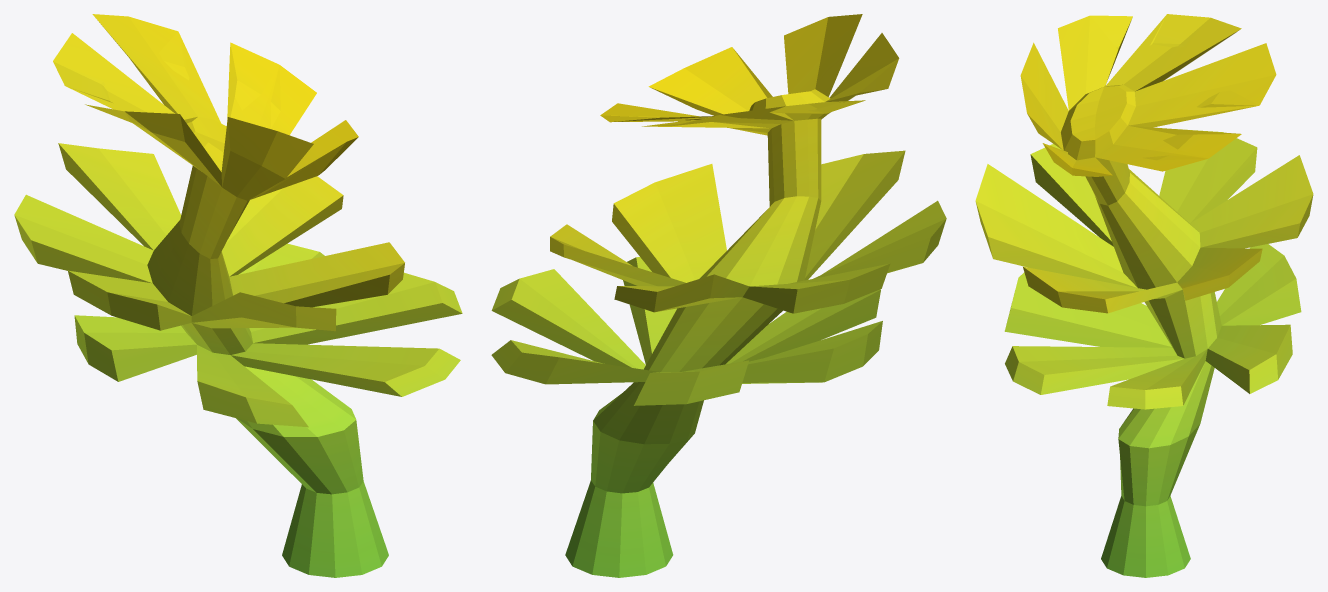
The model's file is tree_03.fbx.
3 renders of one model, left to right at view 1: azimuth 30°, elevation 25°; view 2: azimuth 150°, elevation 25°; view 3: azimuth 270°, elevation 25°, orthographic. The views are drawn at different scales.
Parts seen in each view (by area): view 1: tree_03; view 2: tree_03; view 3: tree_03.
Part boxes in pixels (<box>): tree_03: <box>14,14,462,577</box>; tree_03: <box>491,14,946,577</box>; tree_03: <box>975,14,1313,577</box>.
Bounding box in the file's own units: 161 × 202 × 138.
